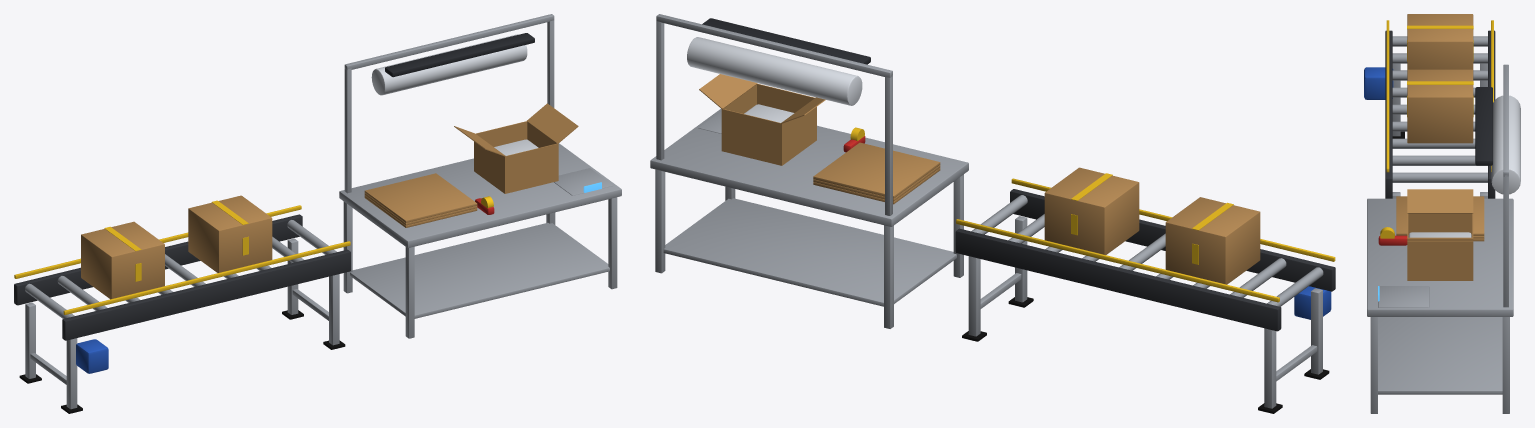
File: Station_Packing.fbx
3 renders of one model, left to right at view 1: azimuth 30°, elevation 25°; view 2: azimuth 150°, elevation 25°; view 3: azimuth 270°, elevation 25°, orthographic. The views are drawn at different scales.
Visible parts, largest first — view 1: Packing Table, Conveyor; view 2: Packing Table, Conveyor; view 3: Packing Table, Conveyor.
Boxes of the visible parts, x1=… form: Packing Table: x1=339, y1=14, x2=621, y2=338; Conveyor: x1=14, y1=195, x2=350, y2=413; Packing Table: x1=650, y1=14, x2=968, y2=328; Conveyor: x1=955, y1=167, x2=1335, y2=413; Packing Table: x1=1367, y1=64, x2=1520, y2=413; Conveyor: x1=1364, y1=14, x2=1495, y2=198.
Bounding box in the file's own units: 4.6 × 1.82 × 1.07.
